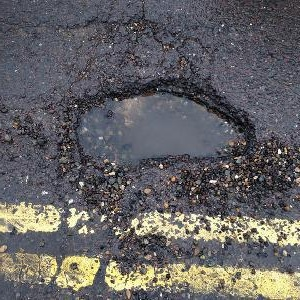pothole: (58, 73, 257, 180)
